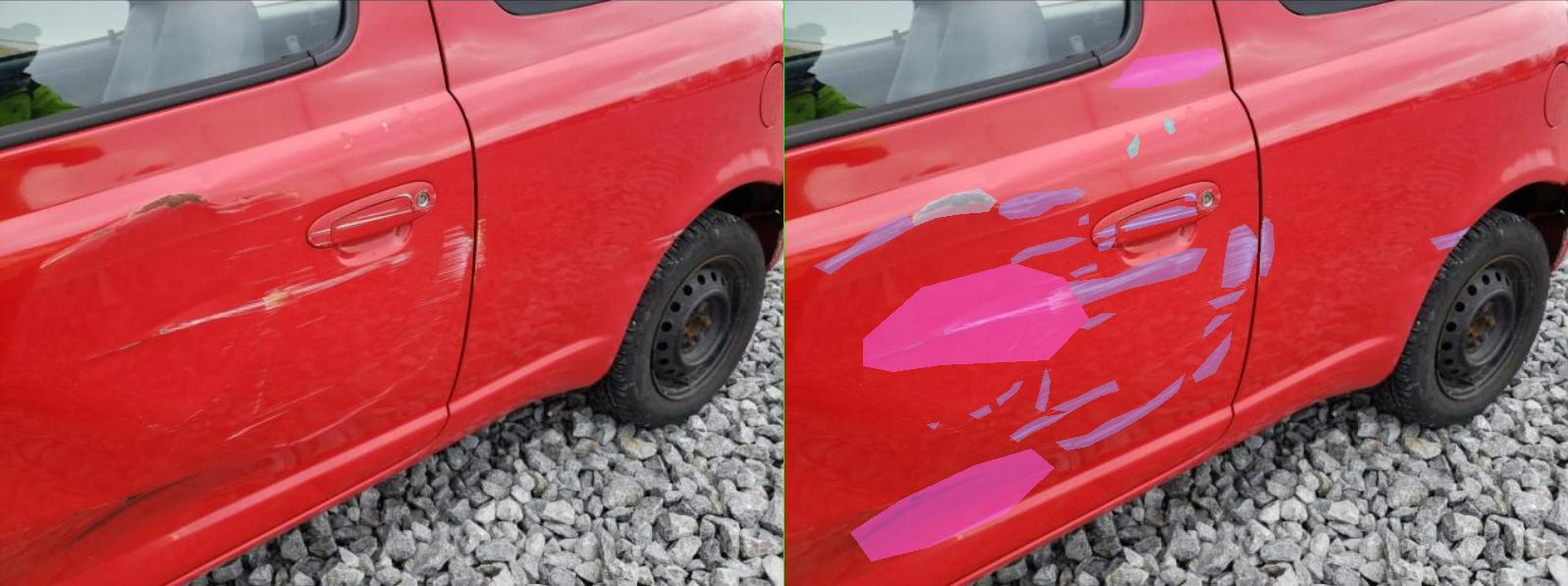Corrosion: (253, 188, 424, 227)
Dent: (157, 263, 607, 371), (132, 449, 538, 560), (648, 47, 874, 87)
Flaking: (684, 133, 709, 158), (760, 119, 780, 133)
Scratch: (307, 248, 845, 341), (542, 374, 800, 450), (59, 214, 259, 274), (428, 187, 603, 219), (874, 224, 945, 287), (532, 380, 668, 411), (454, 237, 603, 265), (815, 331, 894, 382), (450, 411, 570, 442), (682, 206, 825, 231), (163, 336, 287, 360), (1291, 227, 1370, 249), (951, 216, 979, 276), (847, 289, 924, 308), (837, 313, 894, 338), (422, 381, 476, 405), (501, 368, 531, 411), (582, 313, 662, 329), (497, 327, 544, 349), (570, 263, 623, 277), (497, 277, 554, 290), (369, 404, 413, 418), (623, 225, 664, 237), (627, 237, 662, 250), (509, 347, 544, 358), (446, 343, 470, 353), (588, 213, 607, 225), (800, 192, 821, 200), (285, 422, 308, 429)
